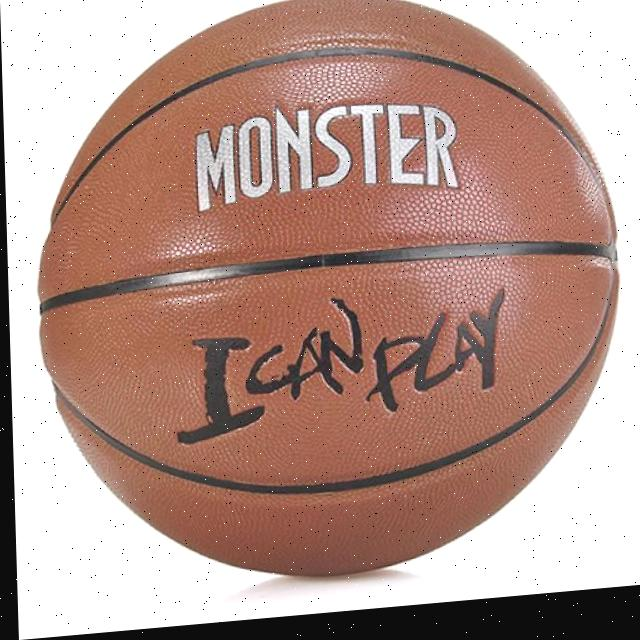Basketball: (30, 0, 630, 600)
